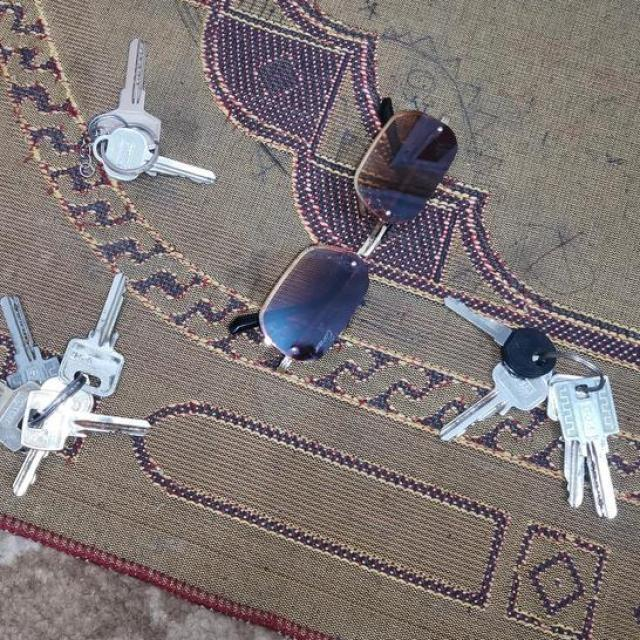Keys: (438, 293, 622, 519), (0, 270, 152, 498), (76, 36, 220, 188)
Sunglasses: (229, 100, 457, 368)
